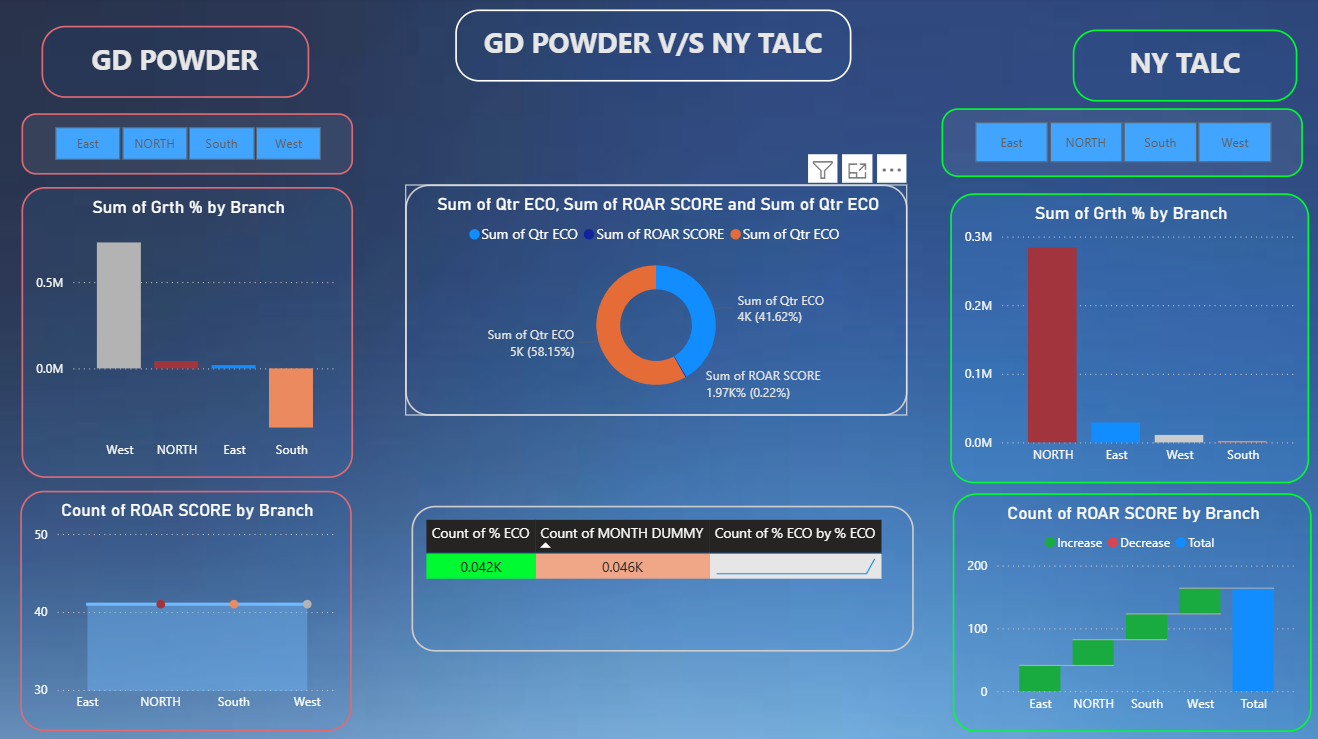

What the dashboard file says about the page in this screenshot:
{"tool":"powerbi","page":{"name":"SUMMARY TABLE","canvas":[1280,720],"ordinal":3},"visuals":[{"type":"slicer","fields":{"Values":["NY Talc.Branch"]},"box":[914.5,107.4,348.7,66.4],"z":0},{"type":"columnChart","fields":{"Category":["GD Powder.Branch"],"Y":["Sum(GD Powder.Grth %)"]},"box":[26.5,183.4,319.7,281.1],"z":1000},{"type":"areaChart","fields":{"Y":["CountNonNull(Jun Summary.ROAR SCORE)"],"Category":["GD Powder.Branch"]},"box":[25.3,476.5,319.7,231.6],"z":2000},{"type":"donutChart","fields":{"Y":["Sum(NY Talc.Qtr ECO)","Sum(Jun Summary.ROAR SCORE)","Sum(GD Powder.Qtr ECO)"]},"box":[396.9,181,485,223.2],"z":3000},{"type":"columnChart","fields":{"Y":["Sum(NY Talc.Grth %)"],"Category":["NY Talc.Branch"]},"box":[922.9,189.4,346.2,279.9],"z":4000},{"type":"waterfallChart","fields":{"Category":["NY Talc.Branch"],"Y":["CountNonNull(Jun Summary.ROAR SCORE)"]},"box":[925.3,479,346.2,230.4],"z":5000},{"type":"textbox","box":[445.2,12.1,382.4,70],"z":6000},{"type":"slicer","fields":{"Values":["GD Powder.Branch"]},"box":[26.5,112.2,319.7,59.1],"z":7000},{"type":"textbox","box":[45.8,27.7,258.2,70],"z":8000},{"type":"textbox","box":[1041.2,31.4,217.2,70],"z":9000},{"type":"tableEx","fields":{"Values":["CountNonNull(Feb Summary.% ECO)","CountNonNull(Sheet1.MONTH DUMMY )","SparklineData(CountNonNull(Feb Summary.% ECO)_[Feb Summary.% ECO])"]},"box":[403,491,485,141.2],"z":10000}]}

Visuals, with their boxes in screenshot pixels (x1, y1, x2, y2), scaled from the page's 1280x720 canvas onto the 1318x739 screenshot:
slicer - NY Talc.Branch: (942, 110, 1301, 178)
columnChart - GD Powder.Branch x Sum(GD Powder.Grth %): (27, 188, 356, 477)
areaChart - CountNonNull(Jun Summary.ROAR SCORE) x GD Powder.Branch: (26, 489, 355, 727)
donutChart - Sum(NY Talc.Qtr ECO) x Sum(Jun Summary.ROAR SCORE): (409, 186, 908, 415)
columnChart - Sum(NY Talc.Grth %) x NY Talc.Branch: (950, 194, 1307, 482)
waterfallChart - NY Talc.Branch x CountNonNull(Jun Summary.ROAR SCORE): (953, 492, 1309, 728)
textbox: (458, 12, 852, 84)
slicer - GD Powder.Branch: (27, 115, 356, 176)
textbox: (47, 28, 313, 100)
textbox: (1072, 32, 1296, 104)
tableEx - CountNonNull(Feb Summary.% ECO) x CountNonNull(Sheet1.MONTH DUMMY ): (415, 504, 914, 649)
